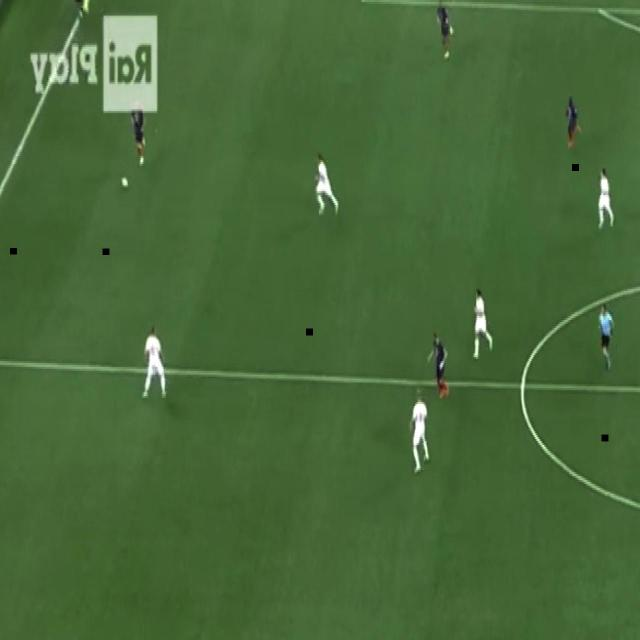ball: (120, 174, 130, 190)
player-white: (142, 323, 168, 401), (409, 386, 430, 476), (314, 152, 341, 218), (426, 331, 449, 400), (472, 290, 494, 362), (434, 1, 456, 62), (597, 302, 615, 372), (596, 168, 615, 230), (131, 97, 147, 169), (565, 95, 583, 150), (70, 0, 86, 22)
